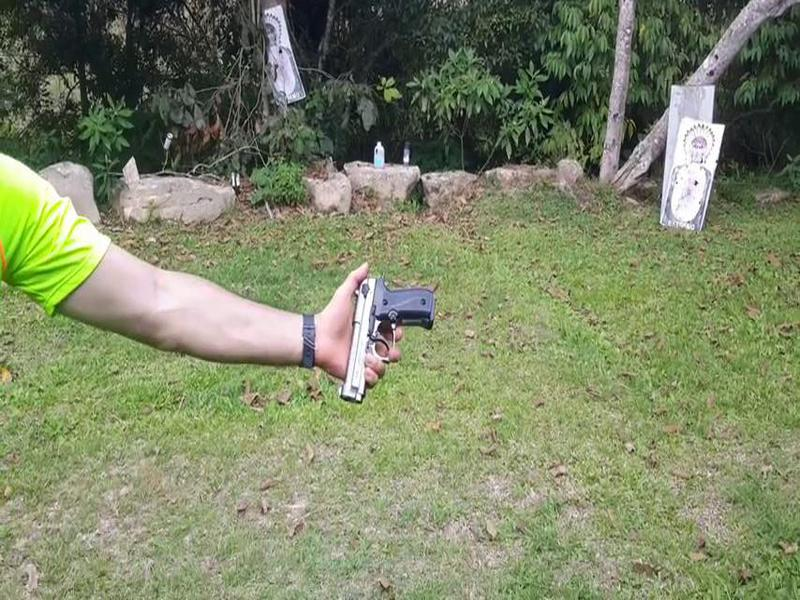Pistola: (337, 263, 441, 414)
